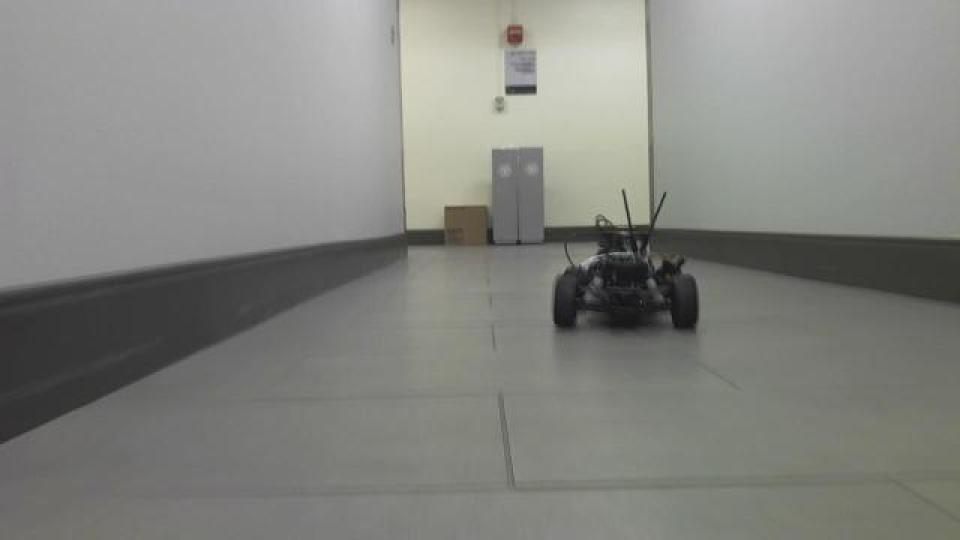car: (548, 186, 702, 334)
